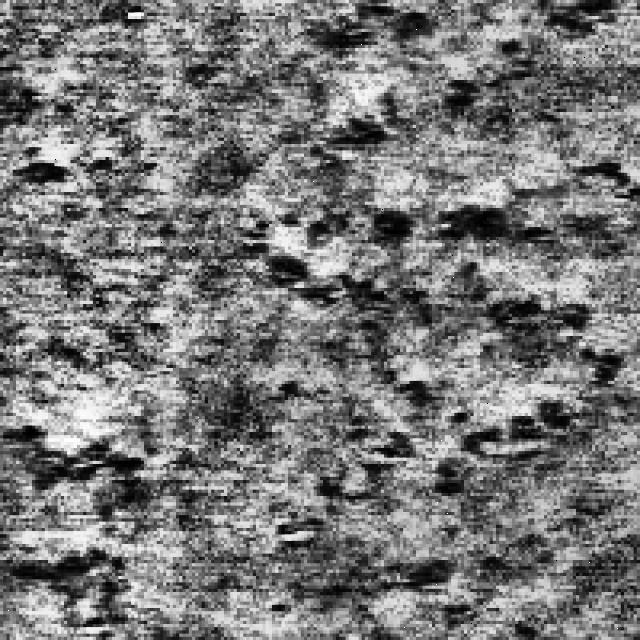Crazing: (250, 105, 640, 342), (278, 266, 634, 518), (310, 3, 541, 163), (10, 410, 156, 630)
